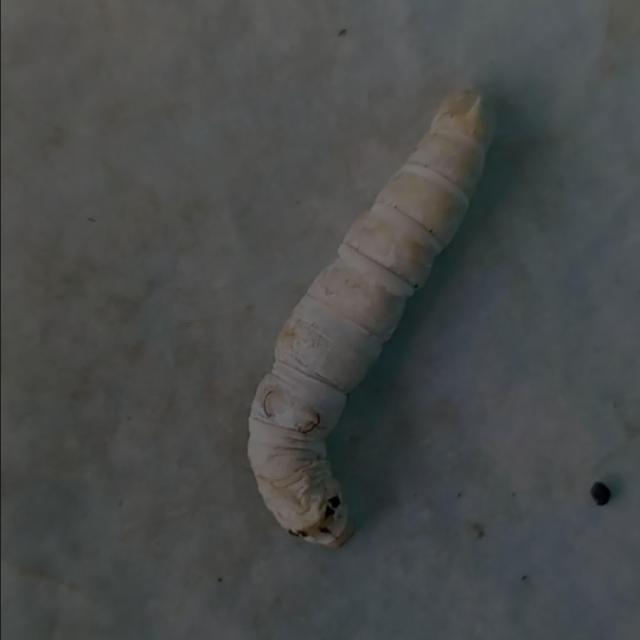Grasserie: (212, 61, 527, 584)
